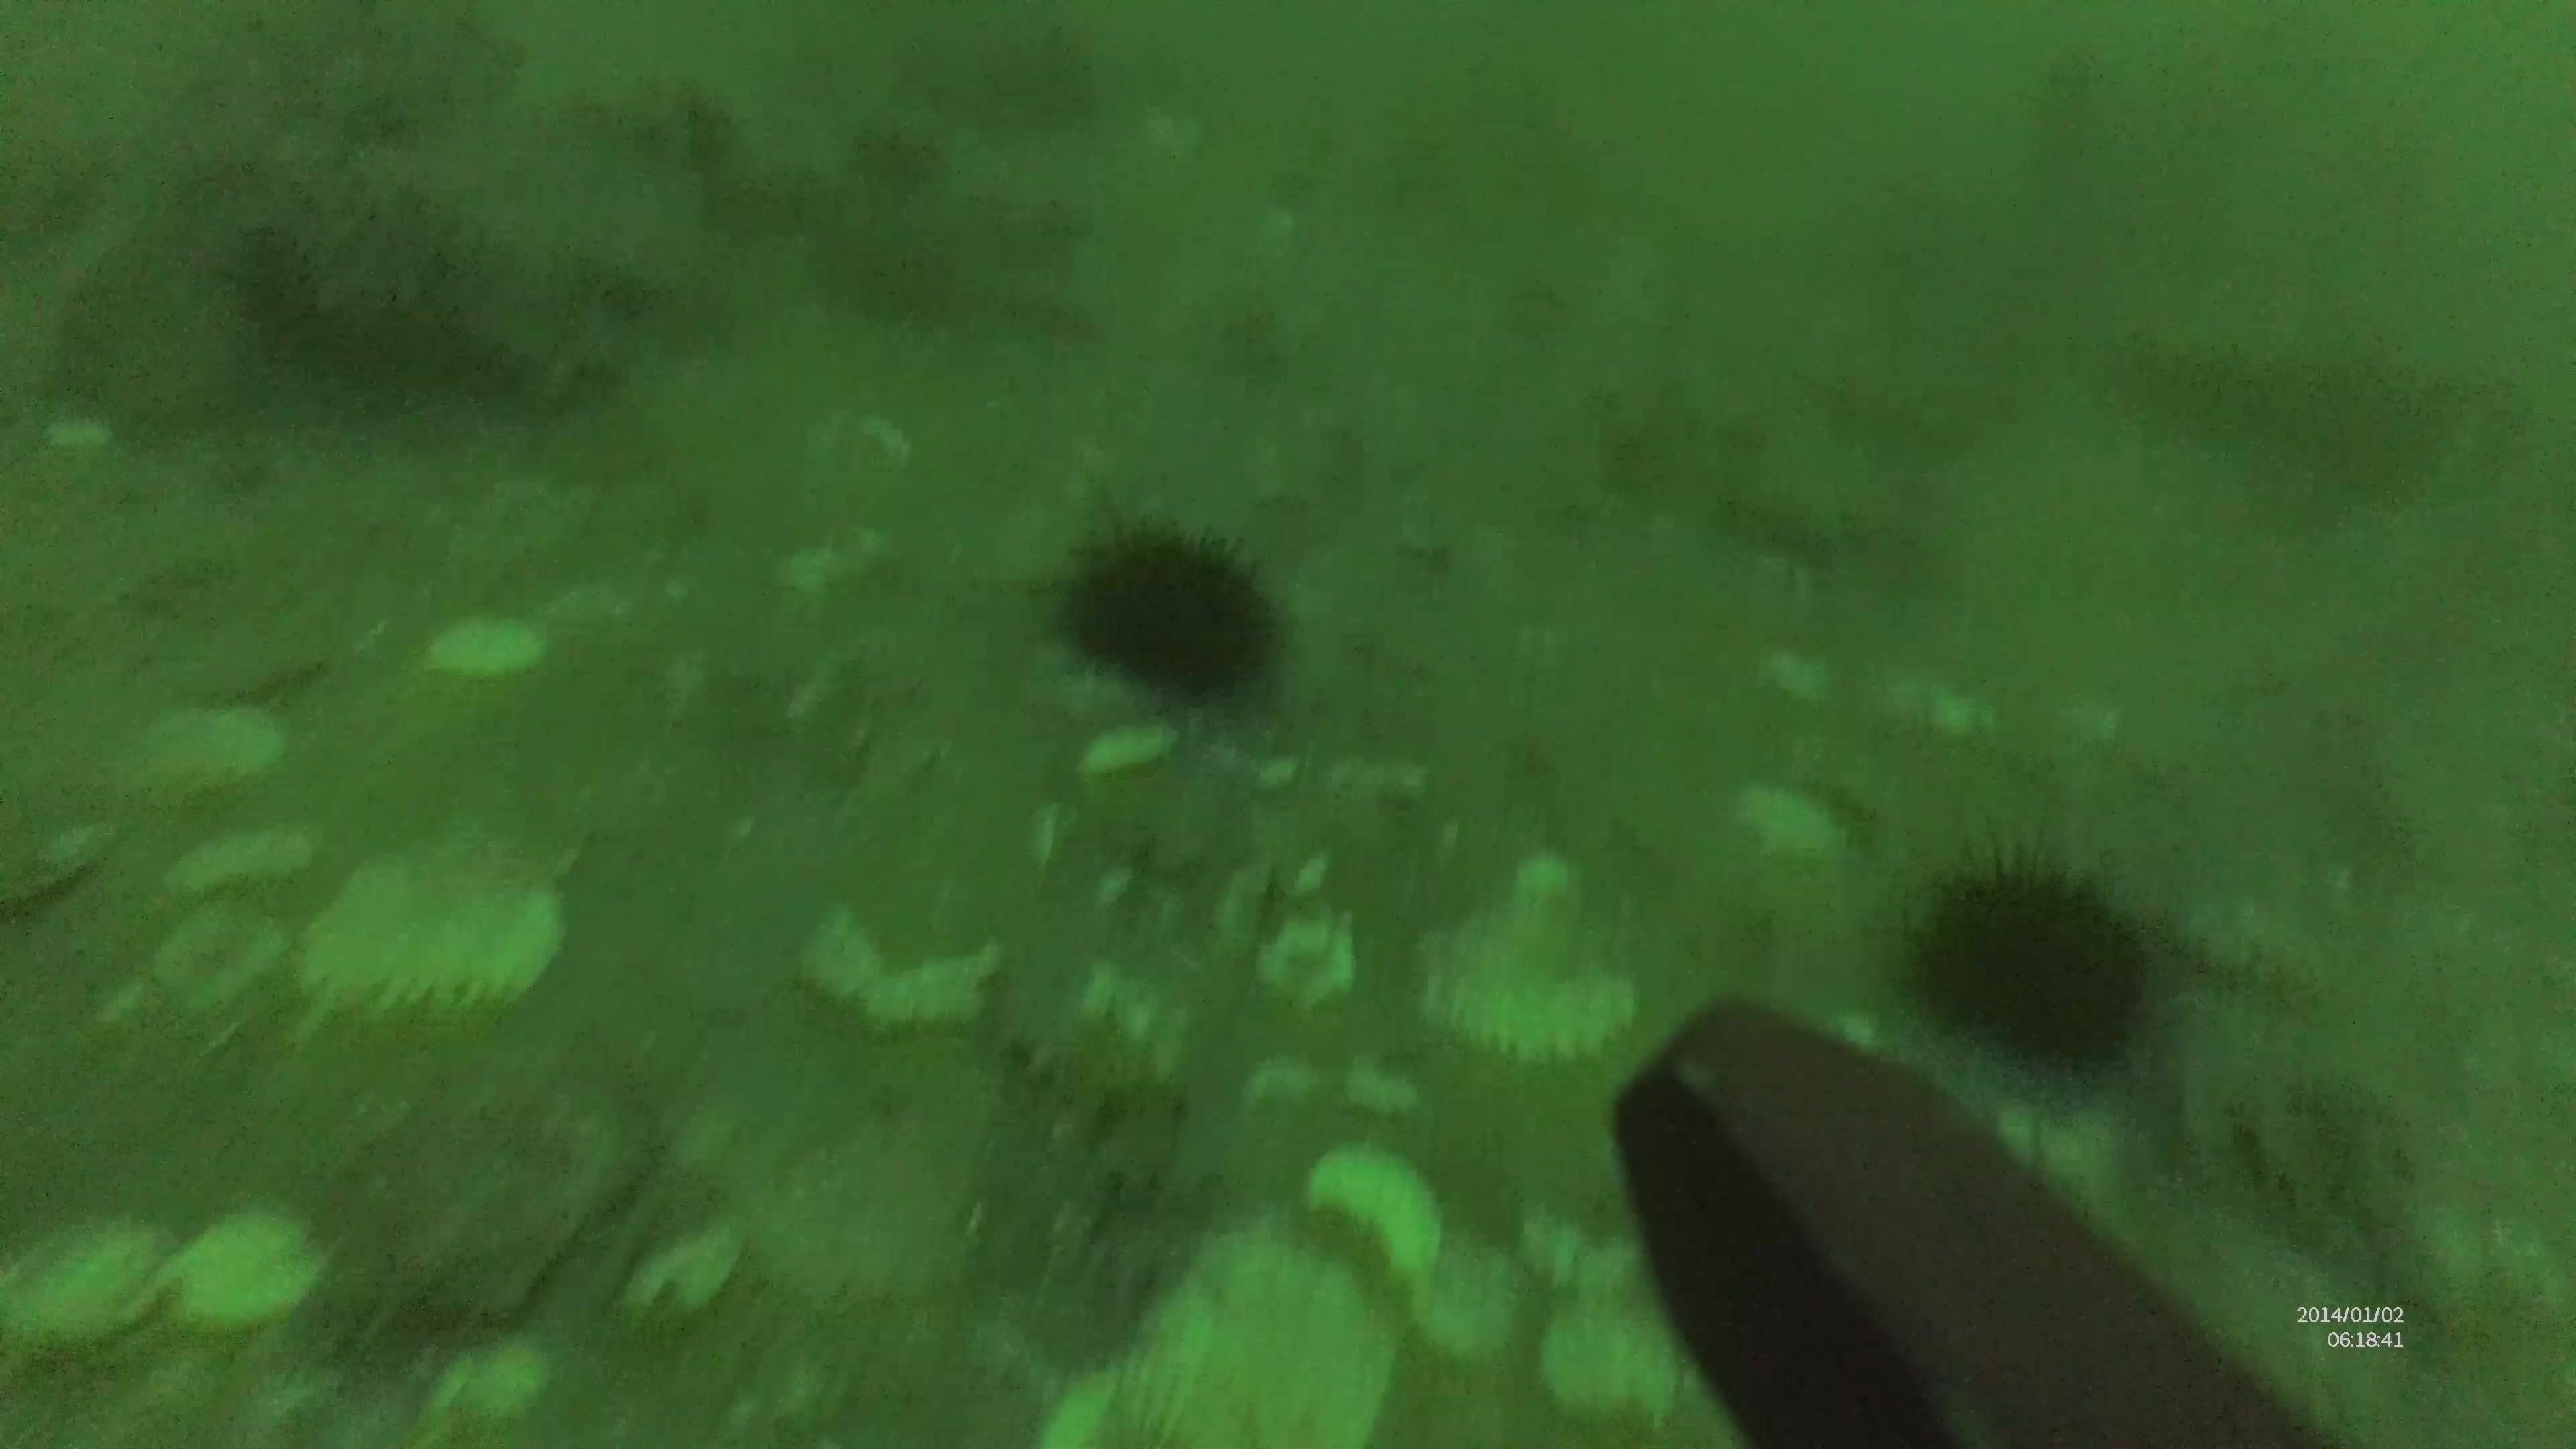echinus: (1893, 839, 2160, 1077), (1051, 513, 1288, 708)
scallop: (1037, 1215, 1405, 1449), (297, 823, 571, 1030), (1417, 892, 1645, 1074), (4, 1205, 179, 1361)
